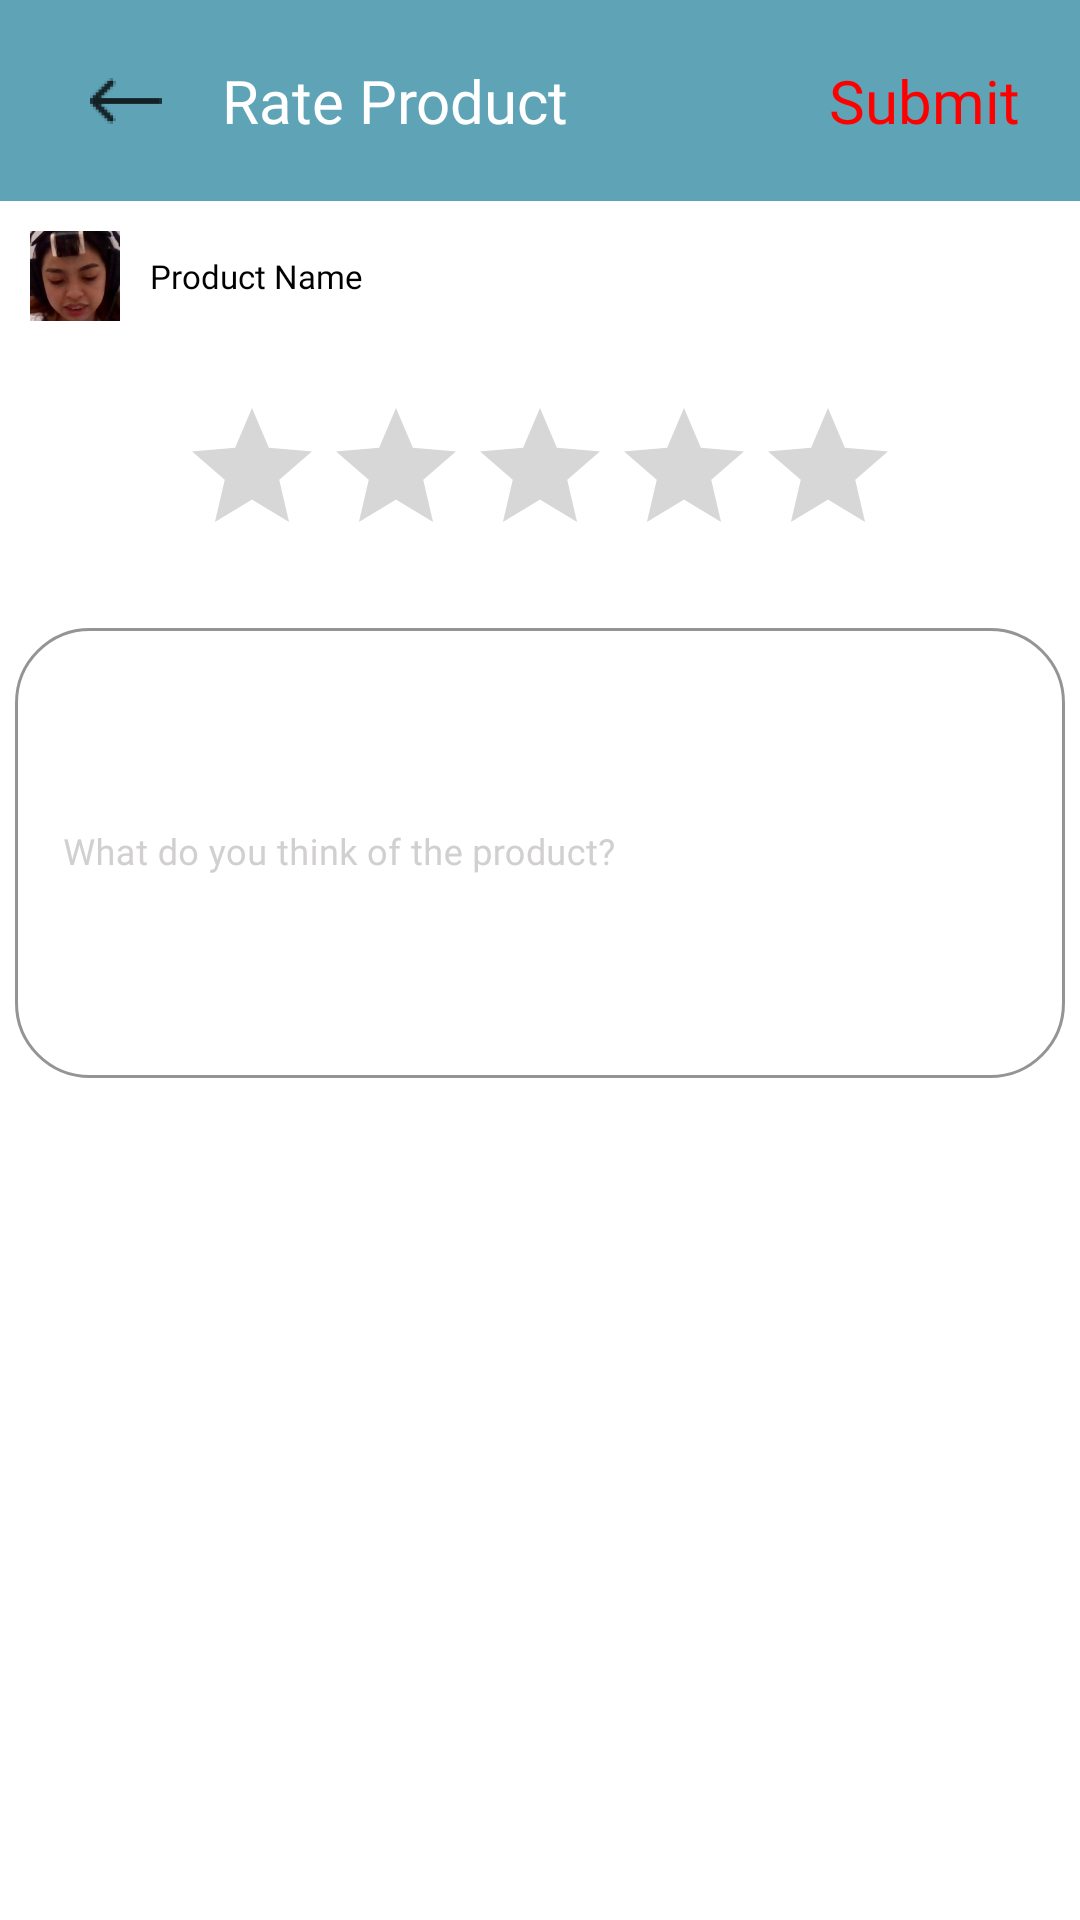

Where icons sit on this 1080*1920 app screen, as BBox(x1, y1, x2, y2):
back: BBox(90, 78, 162, 124)
